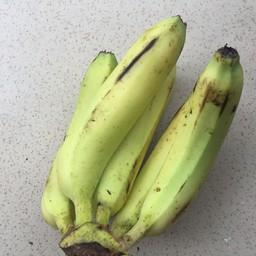Good_banana: (41, 20, 240, 255)
